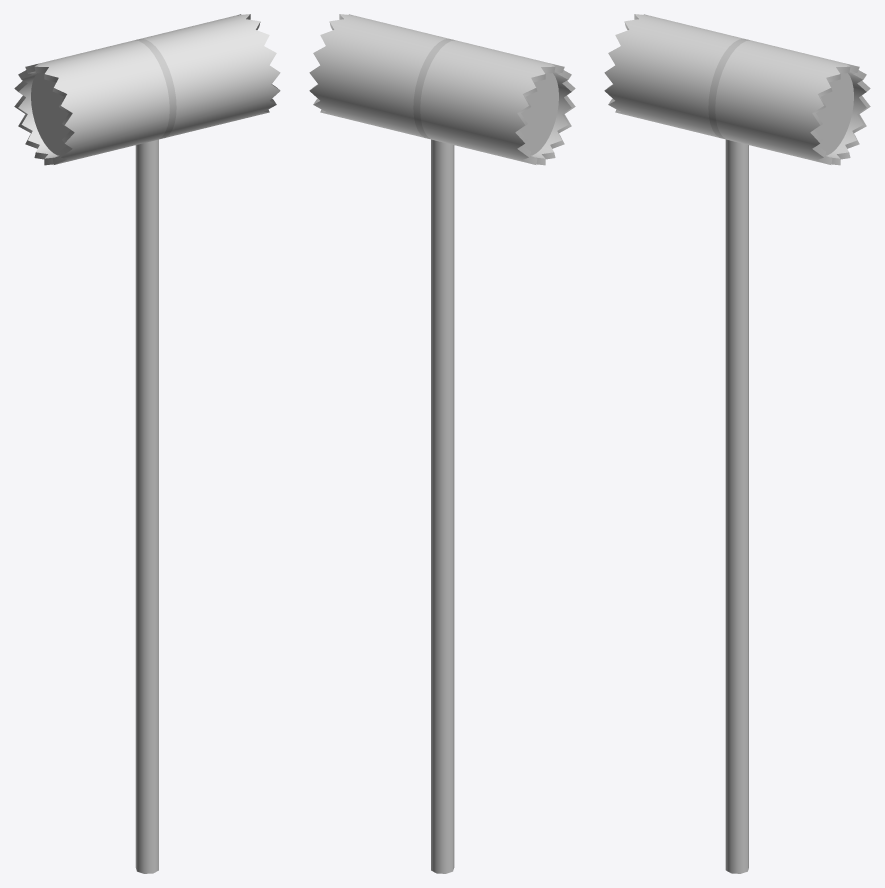
File: Hammer.fbx
3 views of the same model, side by side, from view 1: azimuth 30°, elevation 25°; view 2: azimuth 150°, elevation 25°; view 3: azimuth 330°, elevation 25° (orthographic).
Parts seen in each view (by area): view 1: Cylinder.001; view 2: Cylinder.001; view 3: Cylinder.001.
Boxes of the visible parts, x1=… form: Cylinder.001: x1=14, y1=14, x2=280, y2=873; Cylinder.001: x1=309, y1=14, x2=575, y2=873; Cylinder.001: x1=604, y1=14, x2=870, y2=873.
Size of the model in its own units: 55.94 by 204 by 23.03.
